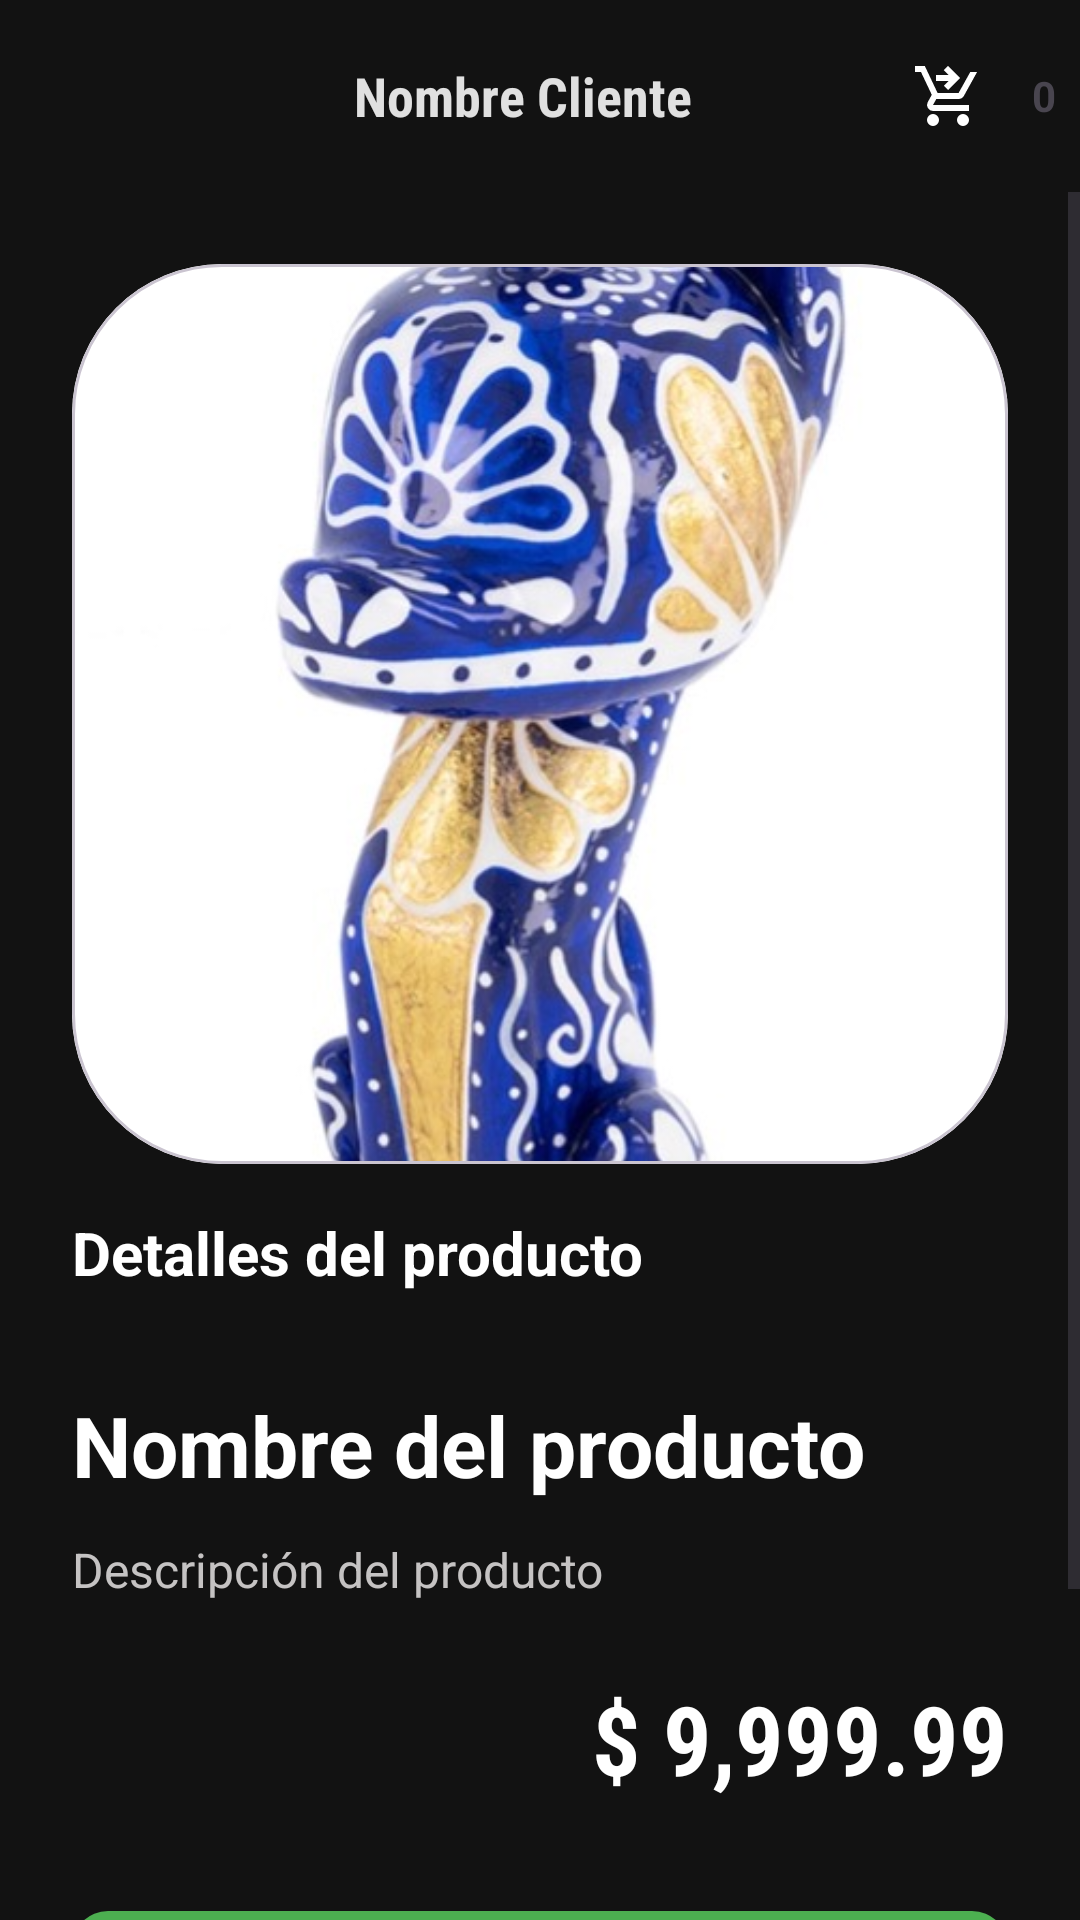

Screen size 1080w x 1920h. Icon name, then its center in pixels as point (x, y):
carrito: point (946, 96)
